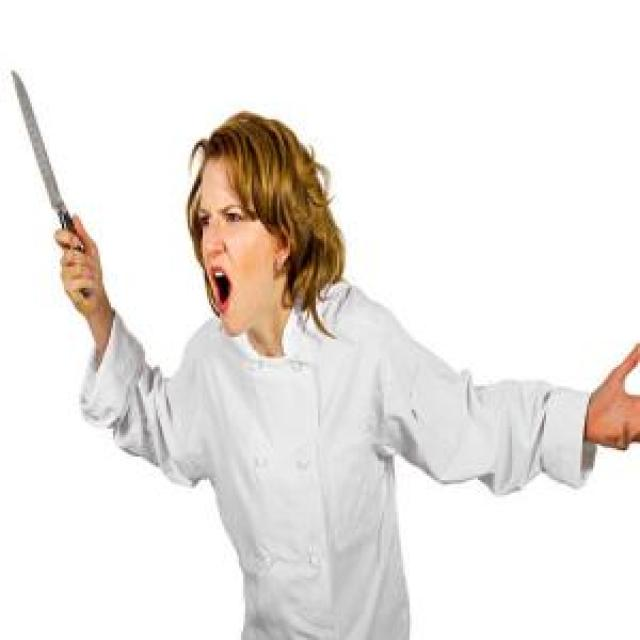knife: (11, 64, 97, 305)
